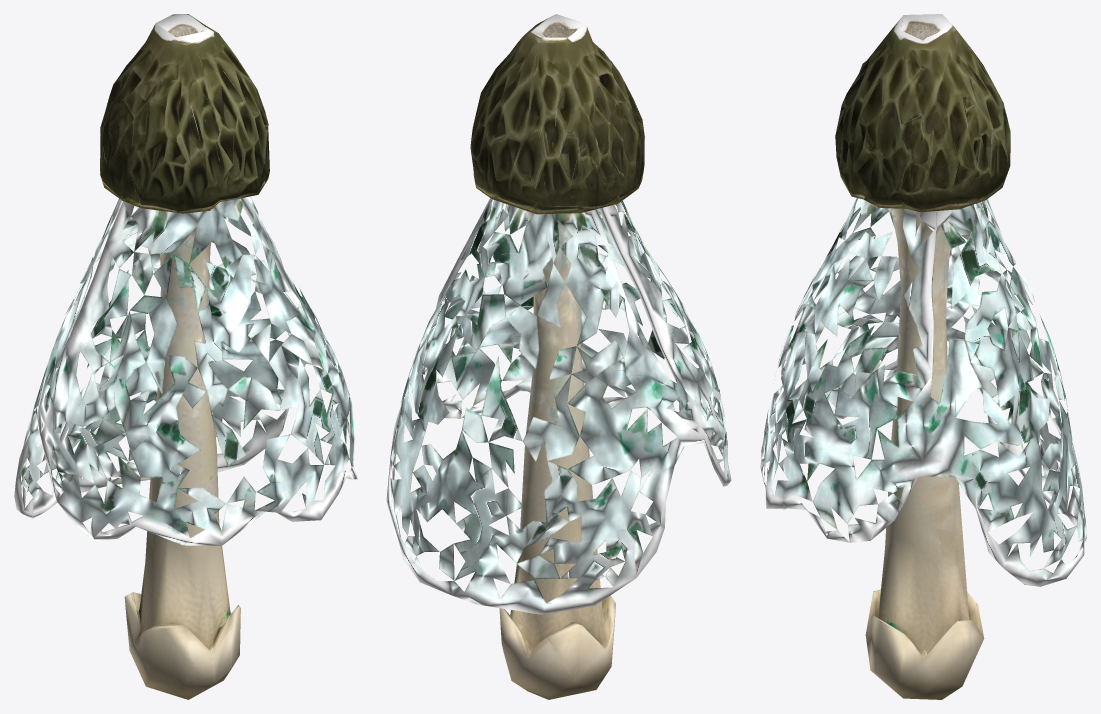
3 views of the same model, side by side, from view 1: azimuth 30°, elevation 25°; view 2: azimuth 150°, elevation 25°; view 3: azimuth 270°, elevation 25° (orthographic).
Parts seen in each view (by area): view 1: Mesh_0; view 2: Mesh_0; view 3: Mesh_0.
Boxes of the visible parts, left/top/right/bottom form: Mesh_0: left=14, top=14, right=357, bottom=699; Mesh_0: left=386, top=14, right=731, bottom=699; Mesh_0: left=760, top=14, right=1086, bottom=699.
Bounding box in the file's own units: 0.8898 × 1.92 × 0.8428.
1 material, 1 textured.
